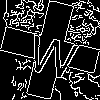W: (25, 25, 82, 81)
